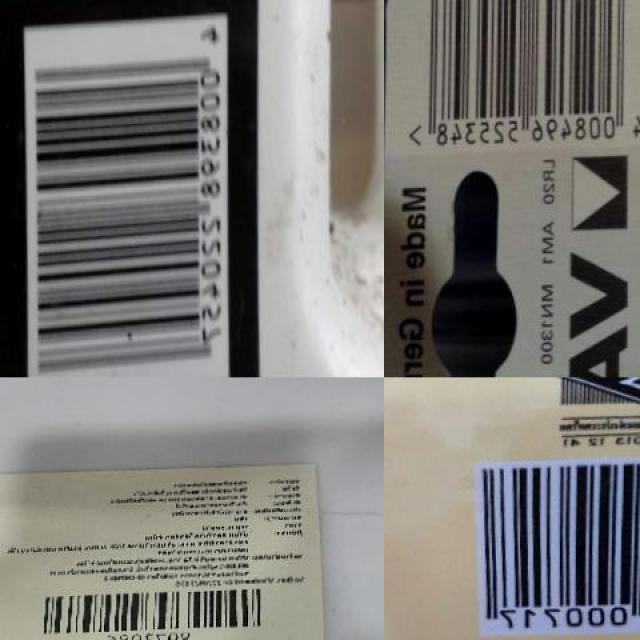Barcode: (17, 15, 236, 377), (396, 0, 640, 160), (473, 451, 640, 638), (28, 584, 272, 640)
